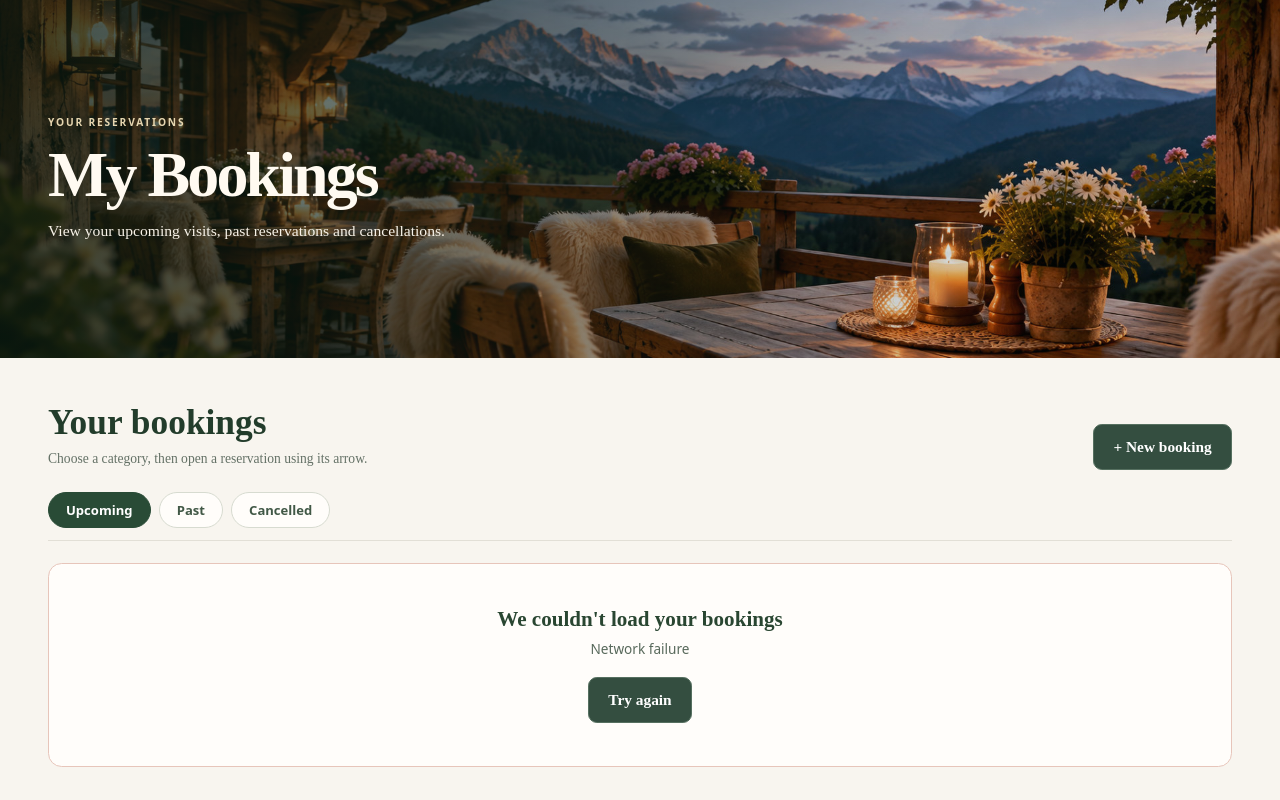
MyBookingsPage Component Integration Tests › handles API error correctly and allows retrying via Try again button
This screenshot has width=1280, height=800.
Expected: the message "We couldn't load your bookings Network failure Try again" is shown, x1=48 y1=563 x2=1232 y2=767
Expected: the heading "We couldn't load your bookings" is shown, x1=497 y1=607 x2=783 y2=631
// Click 'Try again' button
Click the button "Try again": (640, 700) x1=588 y1=677 x2=692 y2=723
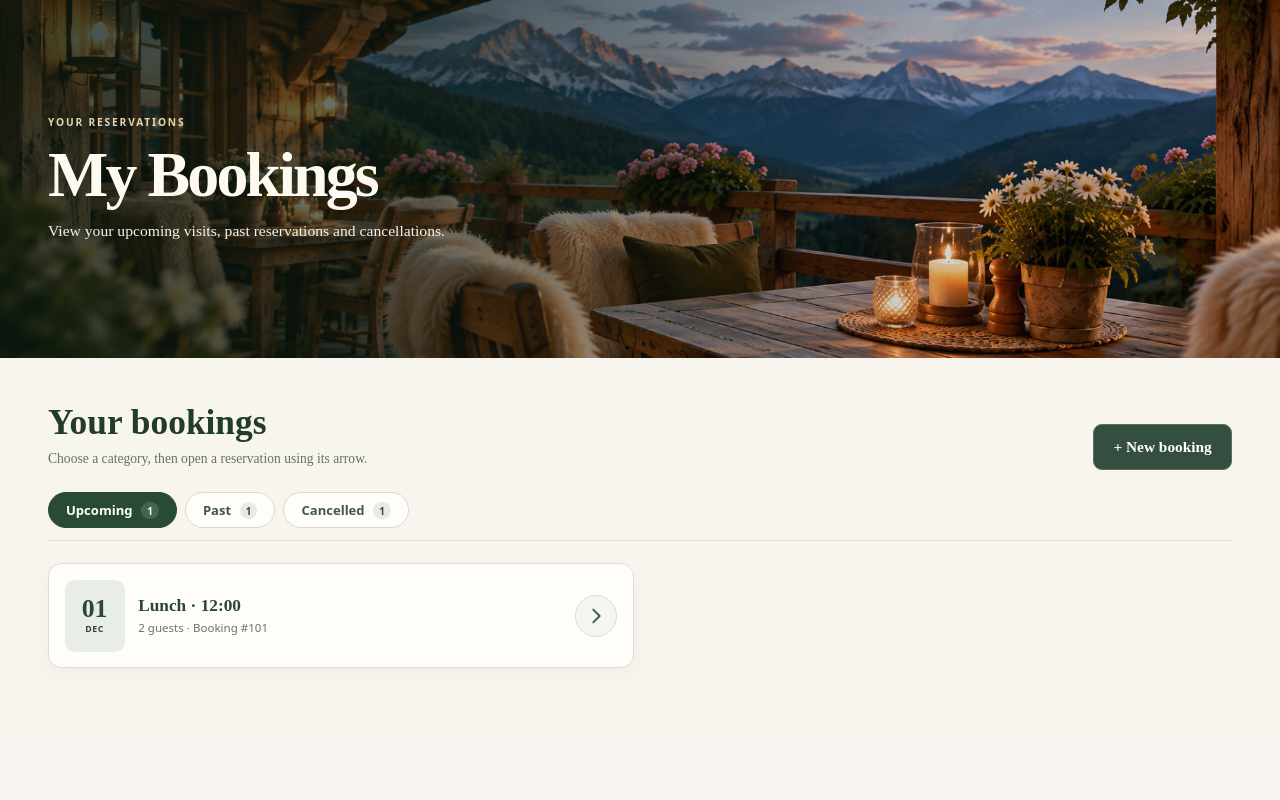
Result: the button named "open booking #101" is shown at x1=575 y1=594 x2=617 y2=636
